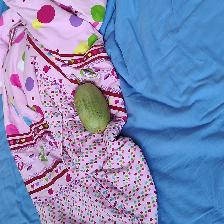gua: (76, 87, 109, 131)
